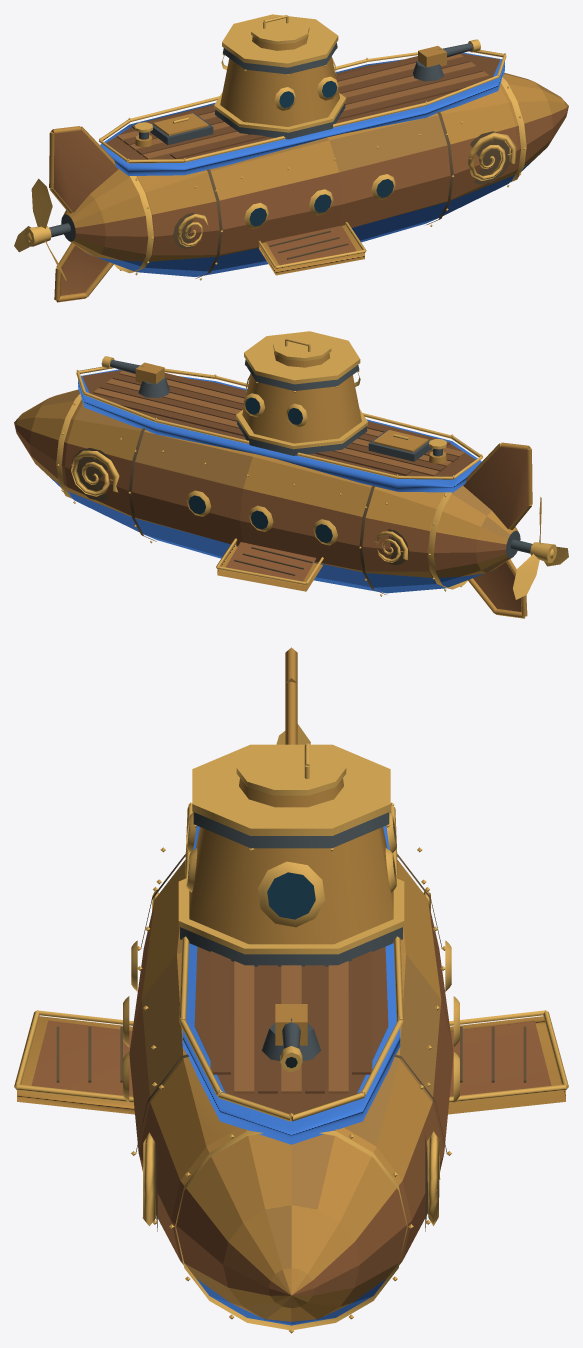
3 renders of one model, top to bottom at view 1: azimuth 30°, elevation 25°; view 2: azimuth 150°, elevation 25°; view 3: azimuth 270°, elevation 25°, orthographic. The views are drawn at different scales.
Parts seen in each view (by area): view 1: hull-riveted-cigar, conning-tower, team-gunwale-band, upper-tail-rudder, tower-roof-brass-rim, wooden-deck, side-plane-copper-inlay-1, deck-plank-2, deck-plank-3, lower-tail-rudder, deck-plank-1, top-hatch-rim (+24 smaller); view 2: hull-riveted-cigar, conning-tower, team-gunwale-band, upper-tail-rudder, tower-roof-brass-rim, wooden-deck, side-plane-copper-inlay--1, deck-plank--2, deck-plank--3, deck-plank--1, lower-tail-rudder, top-hatch-rim (+24 smaller); view 3: hull-riveted-cigar, conning-tower, tower-roof-brass-rim, wooden-deck, team-gunwale-band, side-plane-copper-inlay--1, side-plane-copper-inlay-1, top-hatch-rim, tower-lower-brass-rim, deck-plank--2, deck-plank-2, tower-base-collar (+16 smaller).
Part boxes in pixels (left/top/right/bottom): hull-riveted-cigar: left=63, top=72, right=568, bottom=276; conning-tower: left=220, top=56, right=339, bottom=126; team-gunwale-band: left=100, top=52, right=504, bottom=175; upper-tail-rudder: left=53, top=130, right=118, bottom=212; tower-roof-brass-rim: left=222, top=14, right=338, bottom=67; wooden-deck: left=106, top=53, right=499, bottom=159; side-plane-copper-inlay-1: left=266, top=225, right=356, bottom=265; deck-plank-2: left=142, top=71, right=489, bottom=159; deck-plank-3: left=170, top=81, right=473, bottom=158; lower-tail-rudder: left=60, top=246, right=108, bottom=295; deck-plank-1: left=136, top=66, right=482, bottom=154; top-hatch-rim: left=251, top=16, right=309, bottom=44; hull-riveted-cigar: left=14, top=389, right=518, bottom=593; conning-tower: left=242, top=373, right=361, bottom=443; team-gunwale-band: left=78, top=369, right=481, bottom=492; upper-tail-rudder: left=463, top=447, right=527, bottom=528; tower-roof-brass-rim: left=244, top=331, right=360, bottom=384; wooden-deck: left=82, top=370, right=475, bottom=476; side-plane-copper-inlay--1: left=226, top=542, right=316, bottom=581; deck-plank--2: left=93, top=388, right=439, bottom=476; deck-plank--3: left=110, top=398, right=411, bottom=475; deck-plank--1: left=99, top=383, right=445, bottom=471; lower-tail-rudder: left=473, top=562, right=521, bottom=611; top-hatch-rim: left=273, top=333, right=331, bottom=361; hull-riveted-cigar: left=129, top=859, right=453, bottom=1325; conning-tower: left=189, top=827, right=393, bottom=944; tower-roof-brass-rim: left=192, top=744, right=390, bottom=835; wooden-deck: left=194, top=946, right=388, bottom=1114; team-gunwale-band: left=182, top=826, right=400, bottom=1144; side-plane-copper-inlay--1: left=449, top=1020, right=551, bottom=1096; side-plane-copper-inlay-1: left=31, top=1020, right=133, bottom=1096; top-hatch-rim: left=236, top=746, right=346, bottom=795; tower-lower-brass-rim: left=178, top=878, right=404, bottom=954; deck-plank--2: left=328, top=961, right=348, bottom=1093; deck-plank-2: left=234, top=961, right=254, bottom=1093; tower-base-collar: left=180, top=927, right=402, bottom=966.
Bounding box in the file's own units: 1.65 × 0.6778 × 0.8009.
